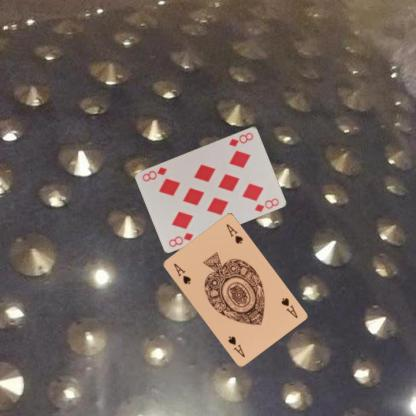8d: (166, 229, 195, 248), (227, 129, 254, 148)
As: (170, 260, 192, 286), (278, 295, 298, 320)
